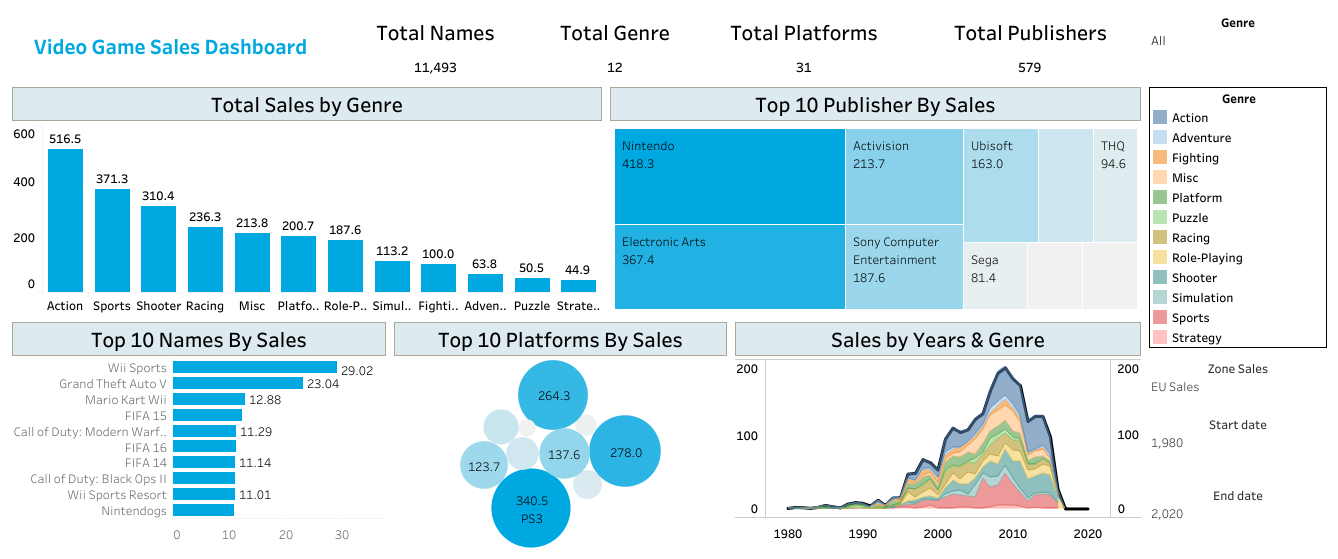

The page's visual inventory and layout, read from the dashboard file:
{"tool":"tableau","page":{"name":"Dashboard 1","canvas":[1000,1000],"units":"permille","ordinal":0},"visuals":[{"type":"text","box":[6,13.3,242.9,134.6]},{"type":"worksheet","title":"Total Names","mark":"Automatic","box":[248.8,13.3,152.7,134.6]},{"type":"worksheet","title":"Total Genre","mark":"Automatic","box":[401.5,13.3,115.4,134.6]},{"type":"worksheet","title":"Total Platforms","mark":"Automatic","box":[516.9,13.3,167.4,134.6]},{"type":"worksheet","title":"Total Publishers","mark":"Automatic","box":[684.3,13.3,170.9,134.6]},{"type":"filter","title":"Sales by Years & Genre","param":"[federated.047a79i0n3j5hr0ztqaky0hb3klp].[none:Genre:nk]","box":[855.2,13.3,138.8,134.6]},{"type":"worksheet","title":"Total Sales by Genre","mark":"Automatic","rows":["Calculation_345651331349897216"],"cols":["Genre"],"box":[6,147.8,446.7,419.4]},{"type":"worksheet","title":"Top 10 Publisher By Sales","mark":"Automatic","box":[452.7,147.8,402.6,419.4]},{"type":"legend","title":"Sales by Years & Genre","param":"[federated.047a79i0n3j5hr0ztqaky0hb3klp].[none:Genre:nk]","box":[855.2,147.8,138.8,450.2]},{"type":"worksheet","title":"Top 10 Names By Sales","mark":"Automatic","rows":["Name"],"cols":["Calculation_345651331349897216"],"box":[6,567.3,285.2,419.4]},{"type":"worksheet","title":"Top 10 Platforms By Sales","mark":"Circle","box":[291.2,567.3,254.6,419.4]},{"type":"worksheet","title":"Sales by Years & Genre","mark":"Automatic","rows":["Calculation_345651331349897216","Calculation_345651331349897216"],"cols":["Year"],"box":[545.8,567.3,309.4,419.4]},{"type":"parameter","param":"[Parameters].[Parameter 1]","box":[855.2,598,138.8,86.4]},{"type":"parameter","param":"[Parameters].[Parameter 2]","box":[855.2,684.4,138.8,124.6]},{"type":"parameter","param":"[Parameters].[Parameter 3]","box":[855.2,809,138.8,124.6]}]}

Visuals, with their boxes on the dashboard's canvas, which has no fixed pixel size, in thousandths of its width and height (x1, y1, x2, y2). These are canvas units, not pixel positions in the 1338x559 screenshot, which may show the page scaled, cropped or inside an application window:
text: locate(6, 13, 249, 148)
"Total Names" worksheet: locate(249, 13, 402, 148)
"Total Genre" worksheet: locate(402, 13, 517, 148)
"Total Platforms" worksheet: locate(517, 13, 684, 148)
"Total Publishers" worksheet: locate(684, 13, 855, 148)
"Sales by Years & Genre" filter: locate(855, 13, 994, 148)
"Total Sales by Genre" worksheet: locate(6, 148, 453, 567)
"Top 10 Publisher By Sales" worksheet: locate(453, 148, 855, 567)
"Sales by Years & Genre" legend: locate(855, 148, 994, 598)
"Top 10 Names By Sales" worksheet: locate(6, 567, 291, 987)
"Top 10 Platforms By Sales" worksheet (Circle marks): locate(291, 567, 546, 987)
"Sales by Years & Genre" worksheet: locate(546, 567, 855, 987)
parameter: locate(855, 598, 994, 684)
parameter: locate(855, 684, 994, 809)
parameter: locate(855, 809, 994, 934)
